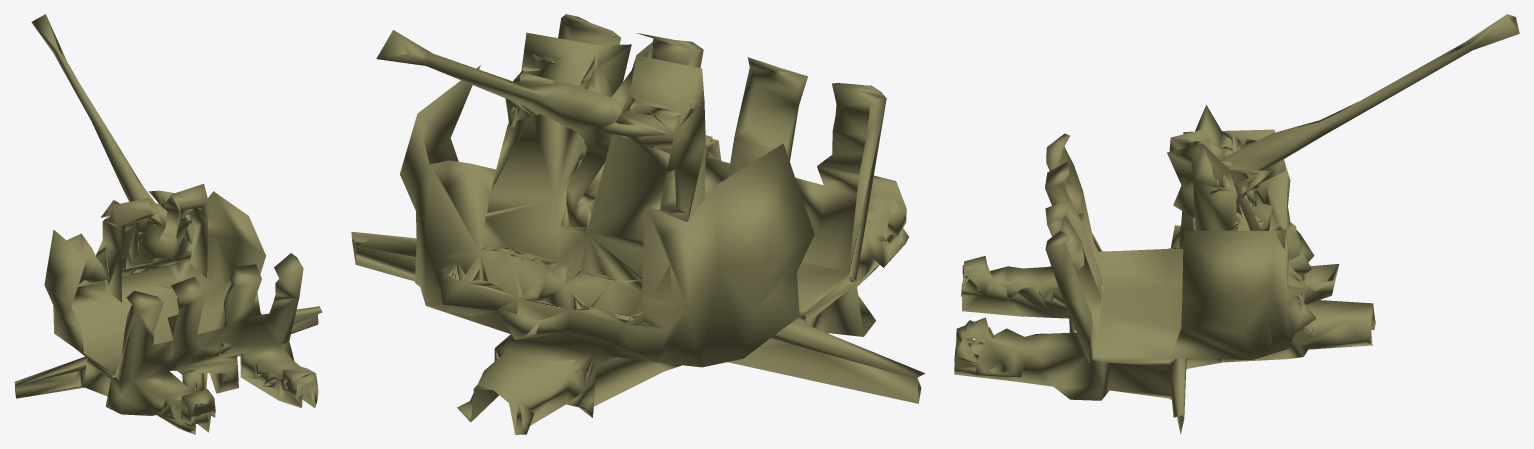
File: QF40mmLOD0.glb
3 views of the same model, side by side, from view 1: azimuth 30°, elevation 25°; view 2: azimuth 150°, elevation 25°; view 3: azimuth 270°, elevation 25° (orthographic). The views are drawn at different scales.
Parts seen in each view (by area): view 1: tripo_node_43c82c82; view 2: tripo_node_43c82c82; view 3: tripo_node_43c82c82.
Boxes of the visible parts, <box> form: tripo_node_43c82c82: <box>14,14,322,434</box>; tripo_node_43c82c82: <box>351,14,924,434</box>; tripo_node_43c82c82: <box>954,14,1519,433</box>.
Size of the model in its own units: 7.63 by 6.2 by 9.47.
